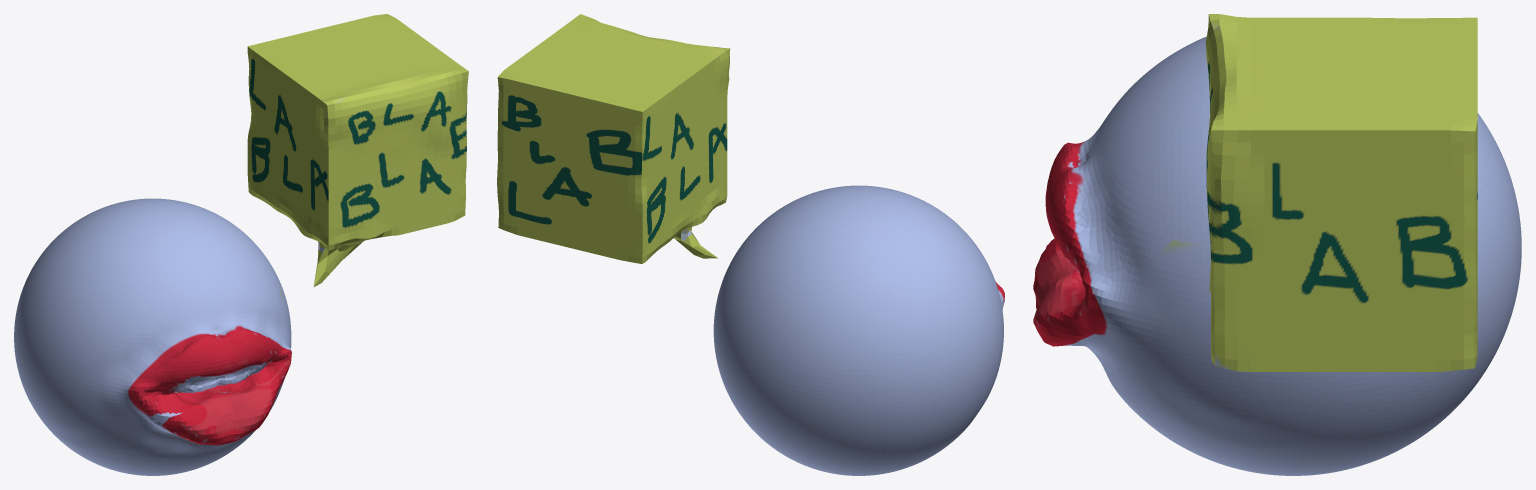
Rendered from spoken_GLB.glb.
3 views of the same model, side by side, from view 1: azimuth 30°, elevation 25°; view 2: azimuth 150°, elevation 25°; view 3: azimuth 270°, elevation 25° (orthographic). The views are drawn at different scales.
Parts seen in each view (by area): view 1: sphere1_combined; view 2: sphere1_combined; view 3: sphere1_combined.
Boxes of the visible parts, left/top/right/bottom form: sphere1_combined: left=14, top=14, right=468, bottom=475; sphere1_combined: left=497, top=14, right=1004, bottom=475; sphere1_combined: left=1033, top=14, right=1521, bottom=475.
Bounding box in the file's own units: 2.94 × 2.32 × 1.83.
1 material, 1 textured.
